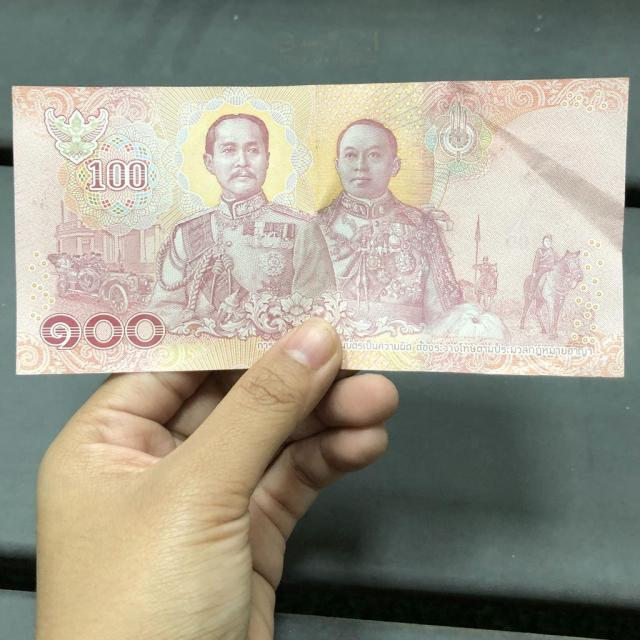THAI100: (12, 78, 628, 378)
